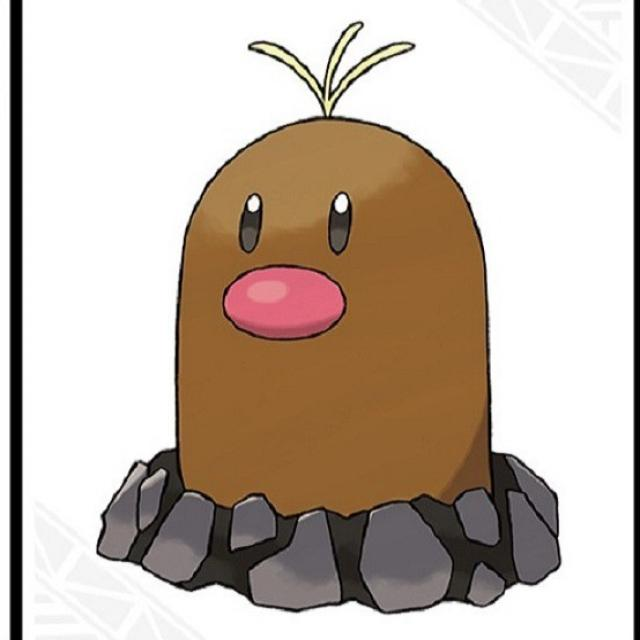Diglett: (157, 64, 499, 554)
